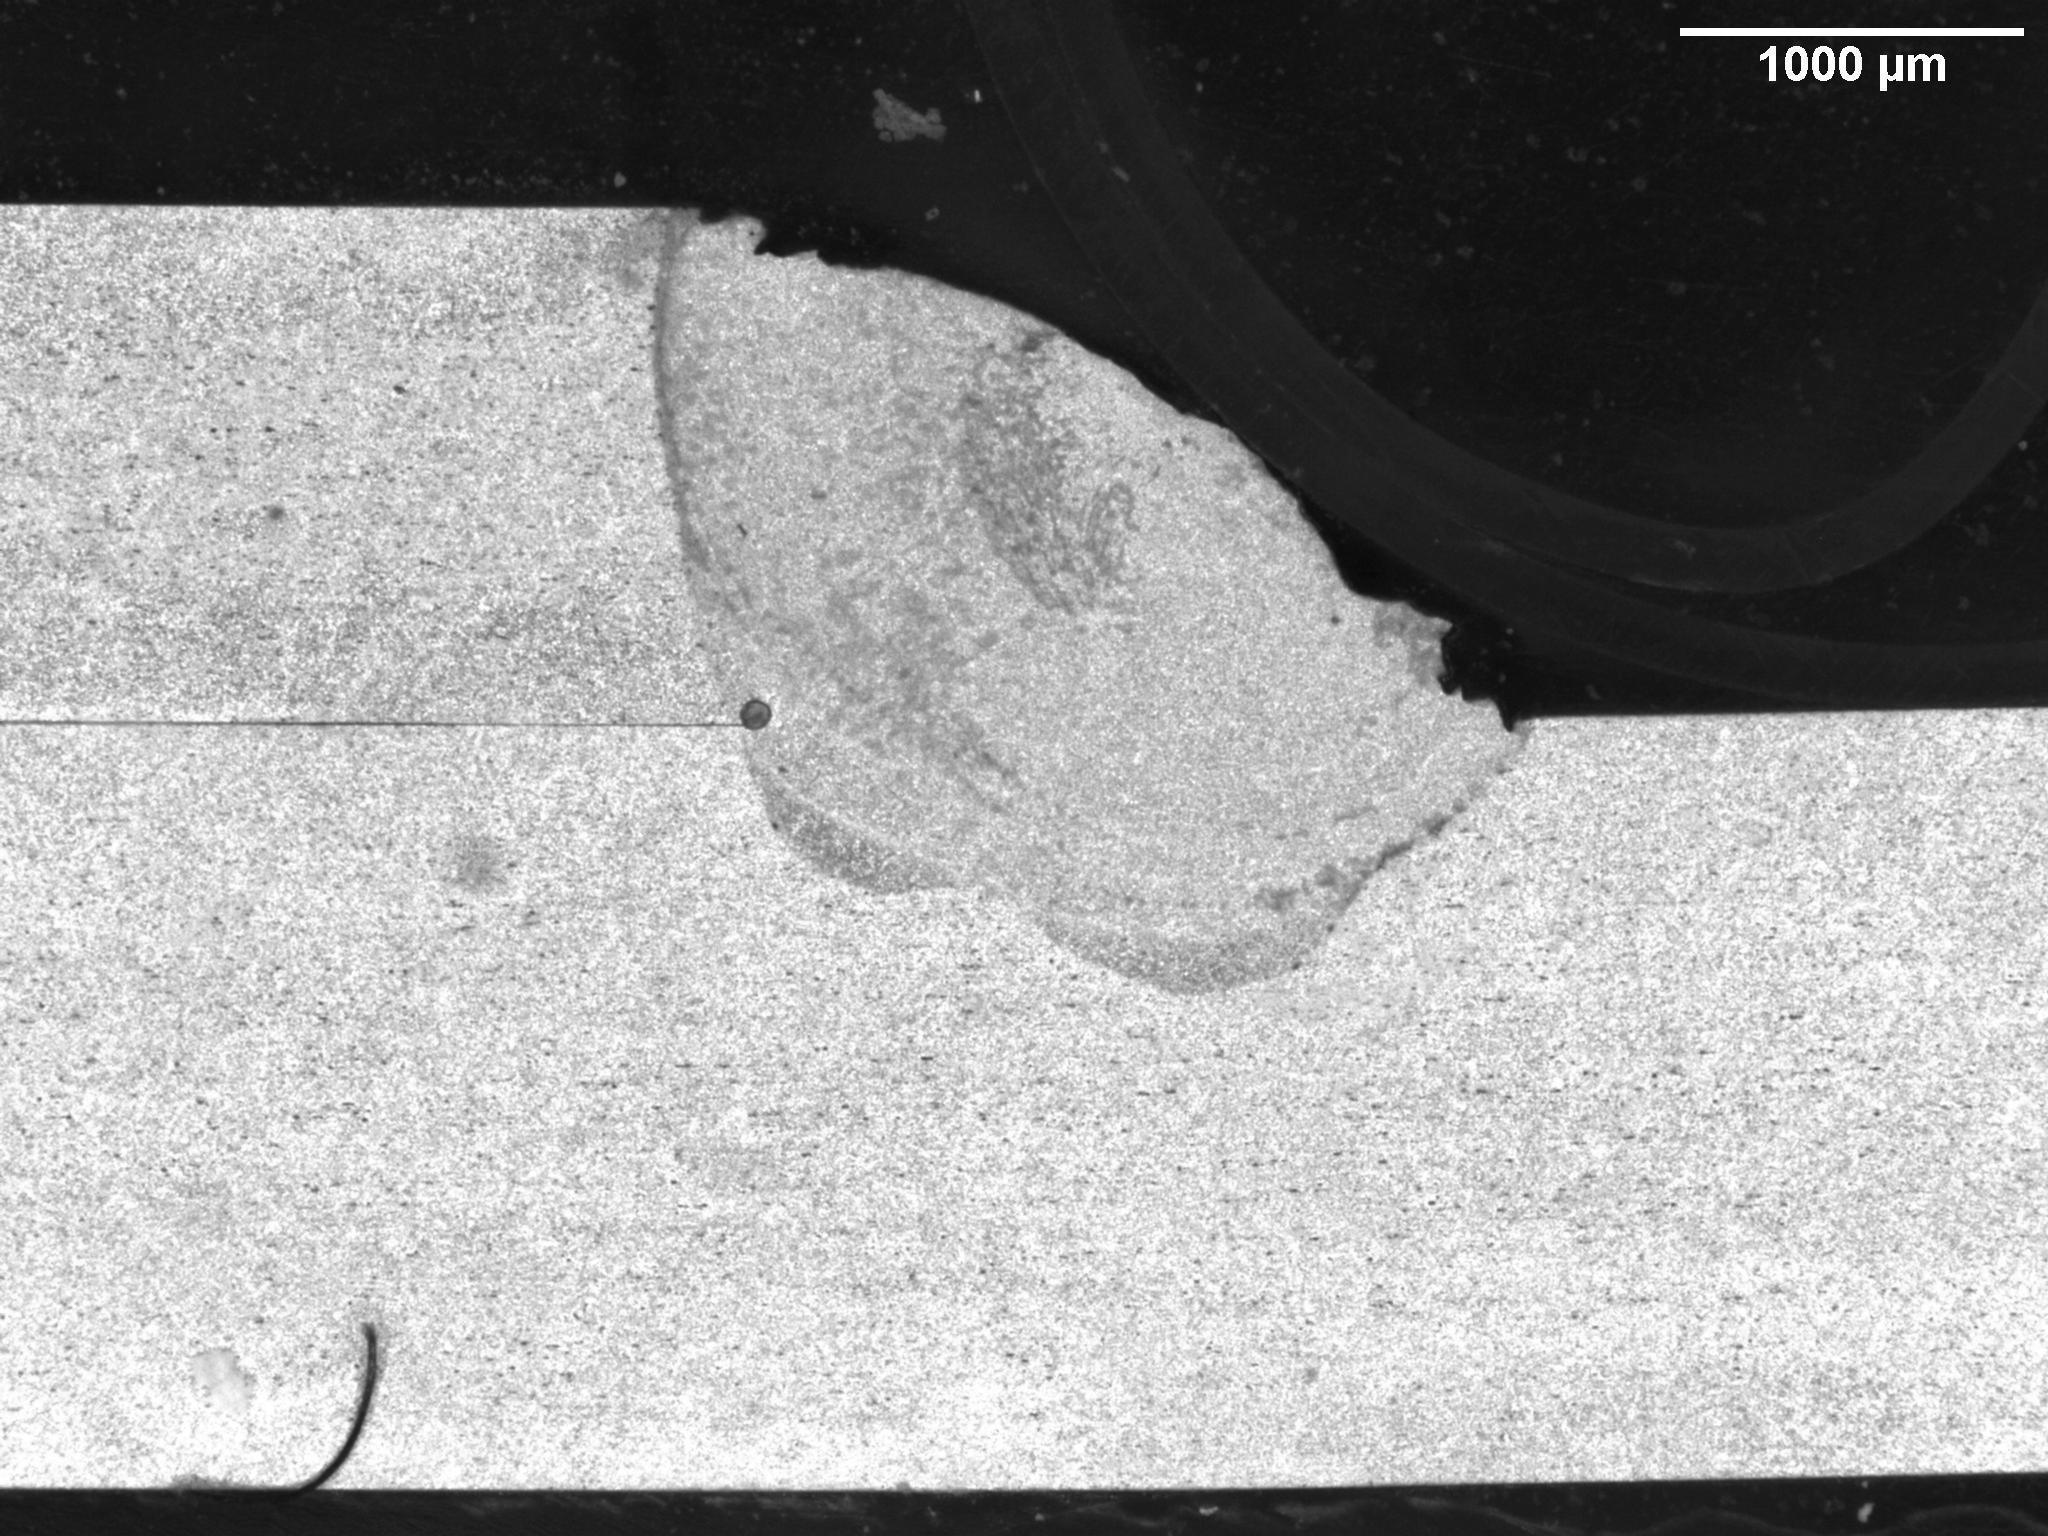Scale-bar: (1674, 18, 2030, 97)
